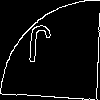J: (24, 25, 52, 73)
